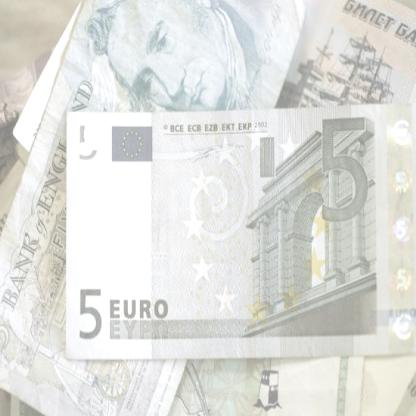euro_banknote: (64, 109, 414, 359)
